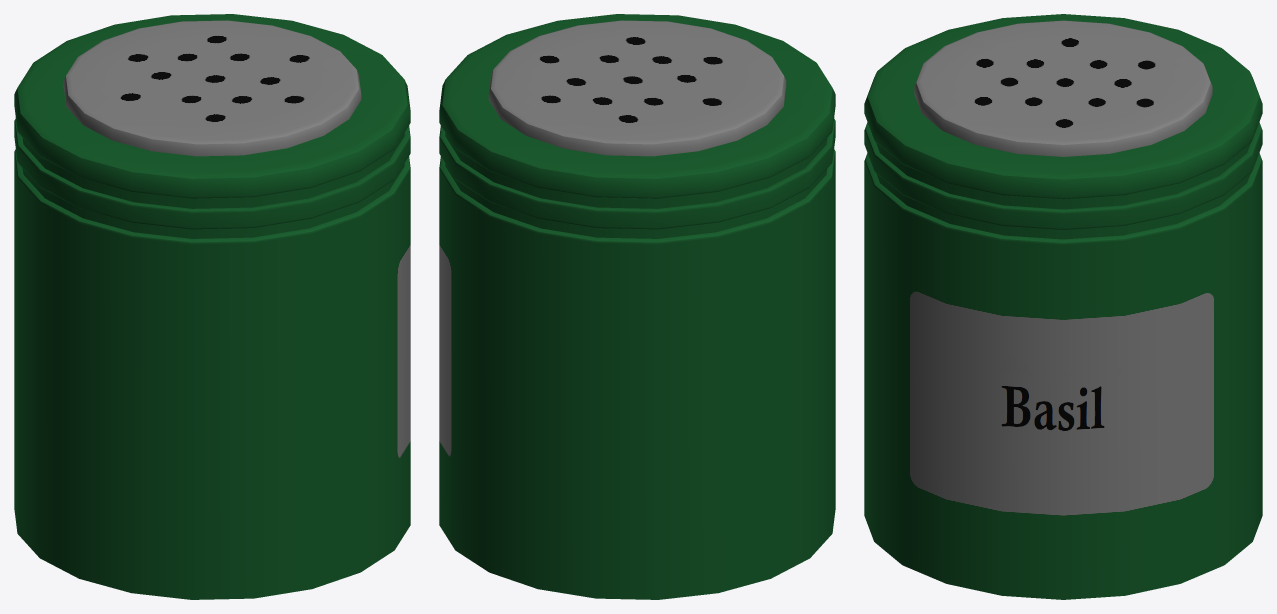
File: basilShaker.fbx
The picture shows the model from 3 angles, left to right: view 1: azimuth 30°, elevation 25°; view 2: azimuth 150°, elevation 25°; view 3: azimuth 270°, elevation 25°; orthographic projection.
Visible parts, largest first — view 1: pCylinder1; view 2: pCylinder1; view 3: pCylinder1.
Part boxes in pixels (left/top/right/bottom): pCylinder1: left=14, top=14, right=410, bottom=599; pCylinder1: left=439, top=14, right=835, bottom=599; pCylinder1: left=864, top=14, right=1262, bottom=599.
Size of the model in its own units: 2 by 2.41 by 2.
1 material, 1 textured.
